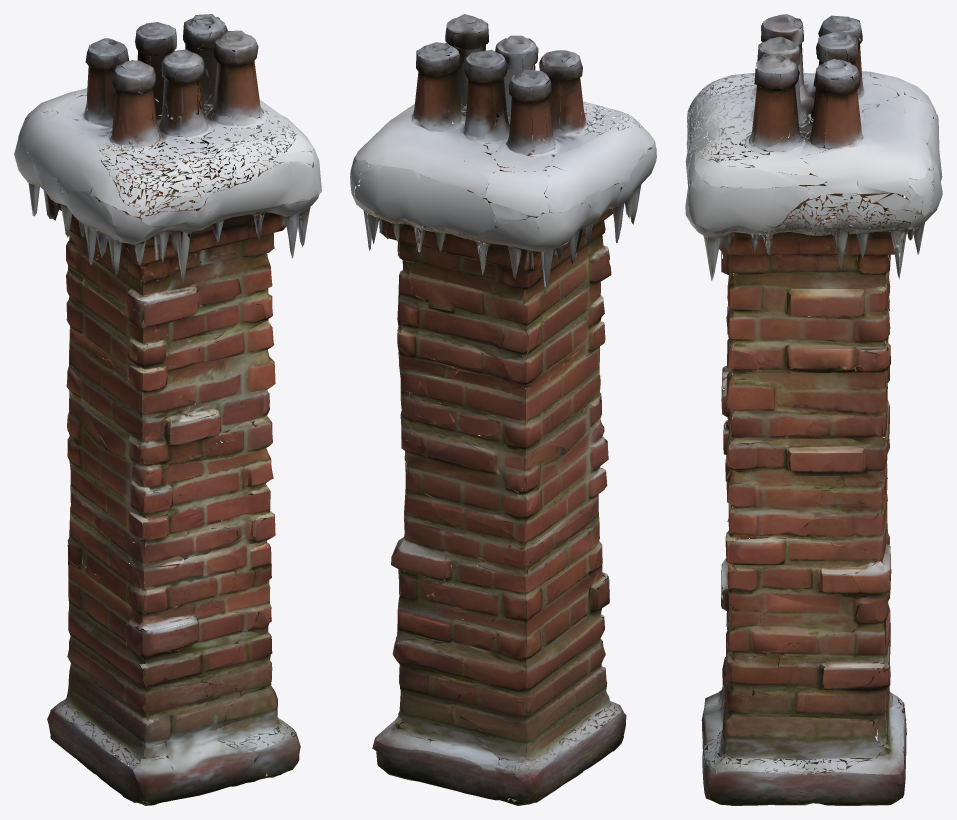
The model's file is Chimney.fbx.
3 views of the same model, side by side, from view 1: azimuth 30°, elevation 25°; view 2: azimuth 150°, elevation 25°; view 3: azimuth 270°, elevation 25° (orthographic). The views are drawn at different scales.
Visible parts, largest first — view 1: Chimney; view 2: Chimney; view 3: Chimney.
Part boxes in pixels (box(x1,y1,x2,y2)): Chimney: box(14, 14, 321, 805); Chimney: box(350, 14, 656, 805); Chimney: box(685, 14, 942, 805).
Bounding box in the file's own units: 71.02 × 220 × 70.01.
1 material, 1 textured.
